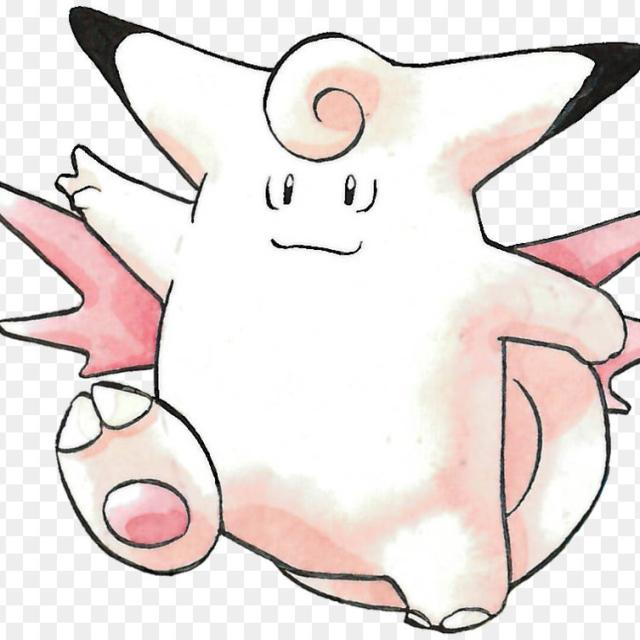Clefable: (98, 22, 604, 592)
